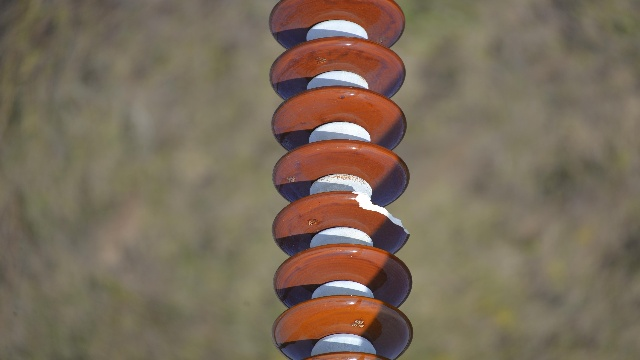broken_local: (349, 192, 411, 236)
insulator_unspecified: (266, 0, 416, 359)
